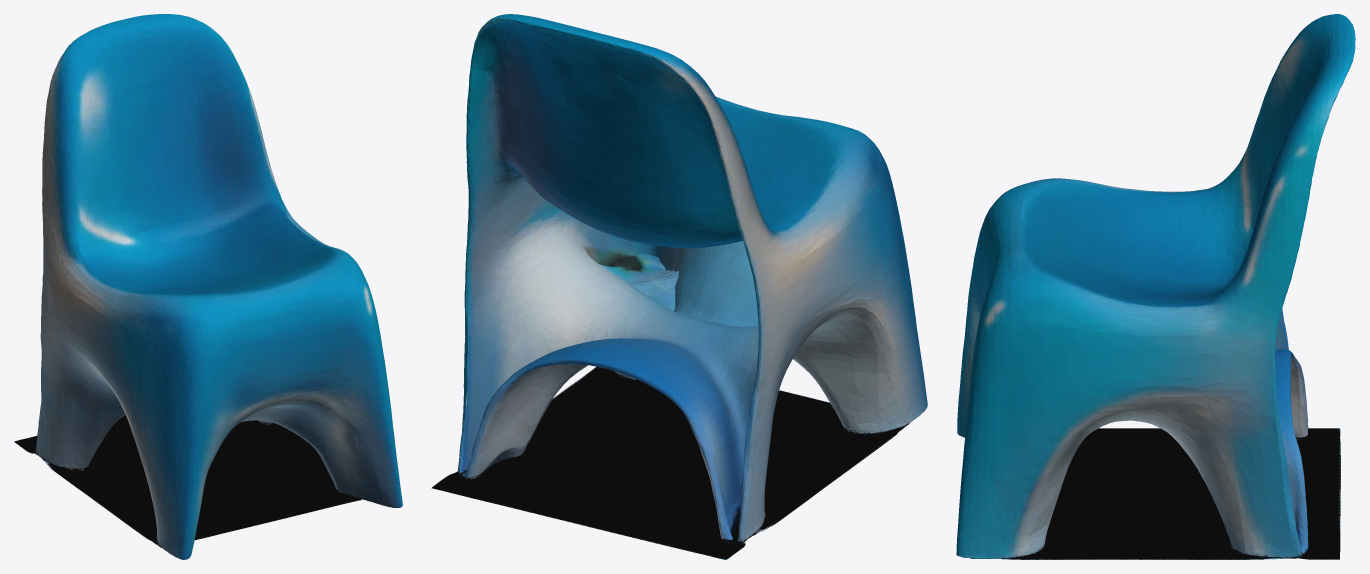
File: cec4272a-7c50-4e3a-a86d-3c05e7ad82a5.glb
3 views of the same model, side by side, from view 1: azimuth 30°, elevation 25°; view 2: azimuth 150°, elevation 25°; view 3: azimuth 270°, elevation 25° (orthographic). The views are drawn at different scales.
Visible parts, largest first — view 1: world; view 2: world; view 3: world.
Part boxes in pixels (box(x1,y1,x2,y2)): world: box(14, 14, 402, 559); world: box(431, 14, 927, 559); world: box(956, 14, 1355, 559).
Bounding box in the file's own units: 0.6484 × 1 × 0.7966.
Materials: 1 (1 with a texture image).
